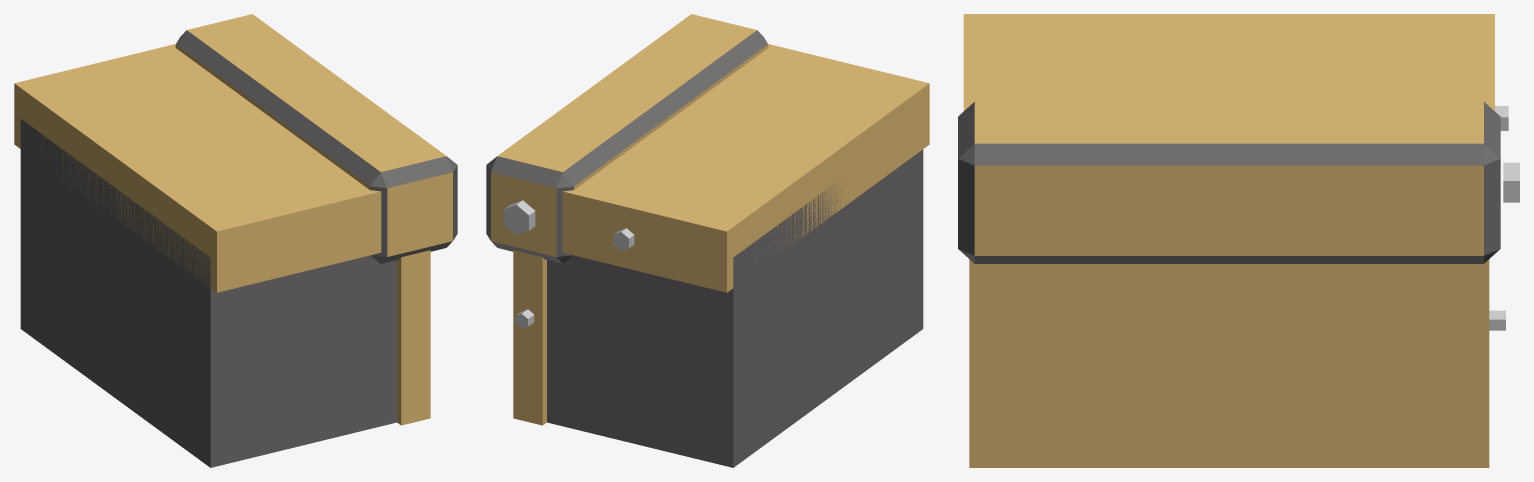
Rendered from CO_Tile_2.fbx.
3 views of the same model, side by side, from view 1: azimuth 30°, elevation 25°; view 2: azimuth 150°, elevation 25°; view 3: azimuth 270°, elevation 25° (orthographic). The views are drawn at different scales.
Visible parts, largest first — view 1: CO_Tile_2; view 2: CO_Tile_2; view 3: CO_Tile_2.
Part boxes in pixels (bbox=[...]): CO_Tile_2: bbox=[14, 14, 457, 467]; CO_Tile_2: bbox=[486, 14, 929, 467]; CO_Tile_2: bbox=[958, 14, 1519, 467].
Size of the model in its own units: 0.67 by 0.67 by 1.02.
